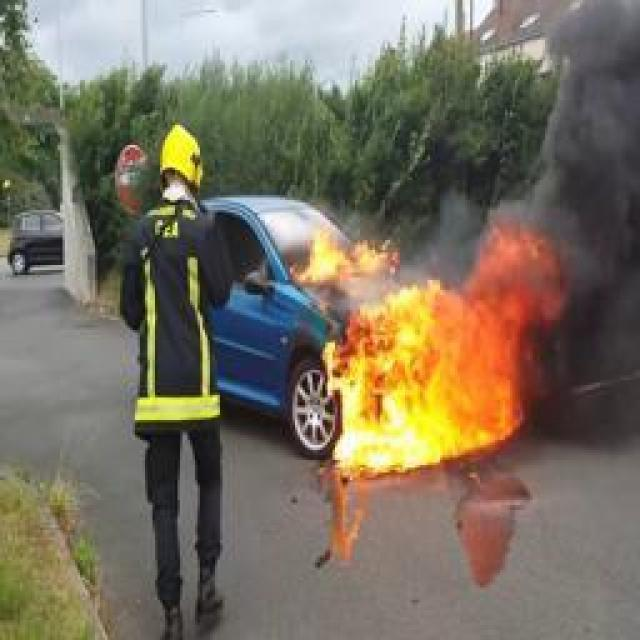Fire: (338, 219, 562, 479), (285, 224, 395, 284)
